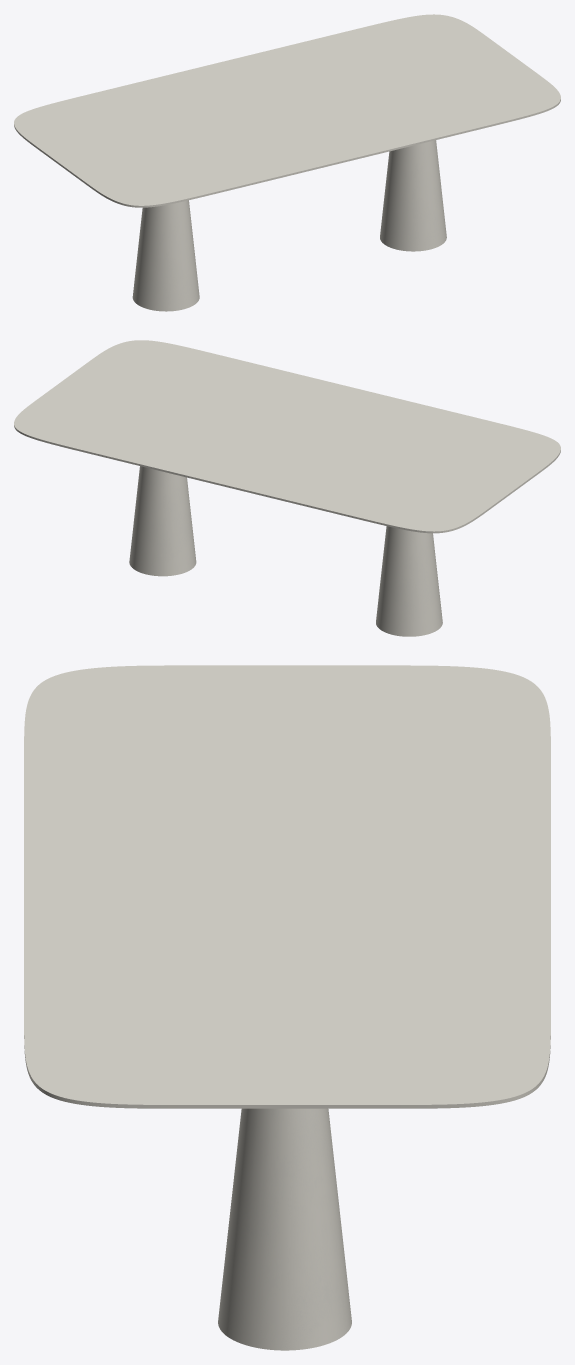
Rendered from pale_softrecta_facet_pebble.glb.
3 views of the same model, one above another, from view 1: azimuth 30°, elevation 25°; view 2: azimuth 150°, elevation 25°; view 3: azimuth 270°, elevation 25° (orthographic). The views are drawn at different scales.
Parts seen in each view (by area): view 1: facet_softrecta, pebble; view 2: facet_softrecta, pebble; view 3: facet_softrecta, pebble.
Part boxes in pixels (bbox=[...]): facet_softrecta: bbox=[14, 14, 560, 207]; pebble: bbox=[132, 140, 446, 311]; facet_softrecta: bbox=[14, 340, 560, 533]; pebble: bbox=[129, 466, 442, 636]; facet_softrecta: bbox=[24, 665, 550, 1108]; pebble: bbox=[218, 1108, 351, 1350].
Bounding box in the file's own units: 7.5 × 2.5 × 3.8.
1 material, 1 textured.
